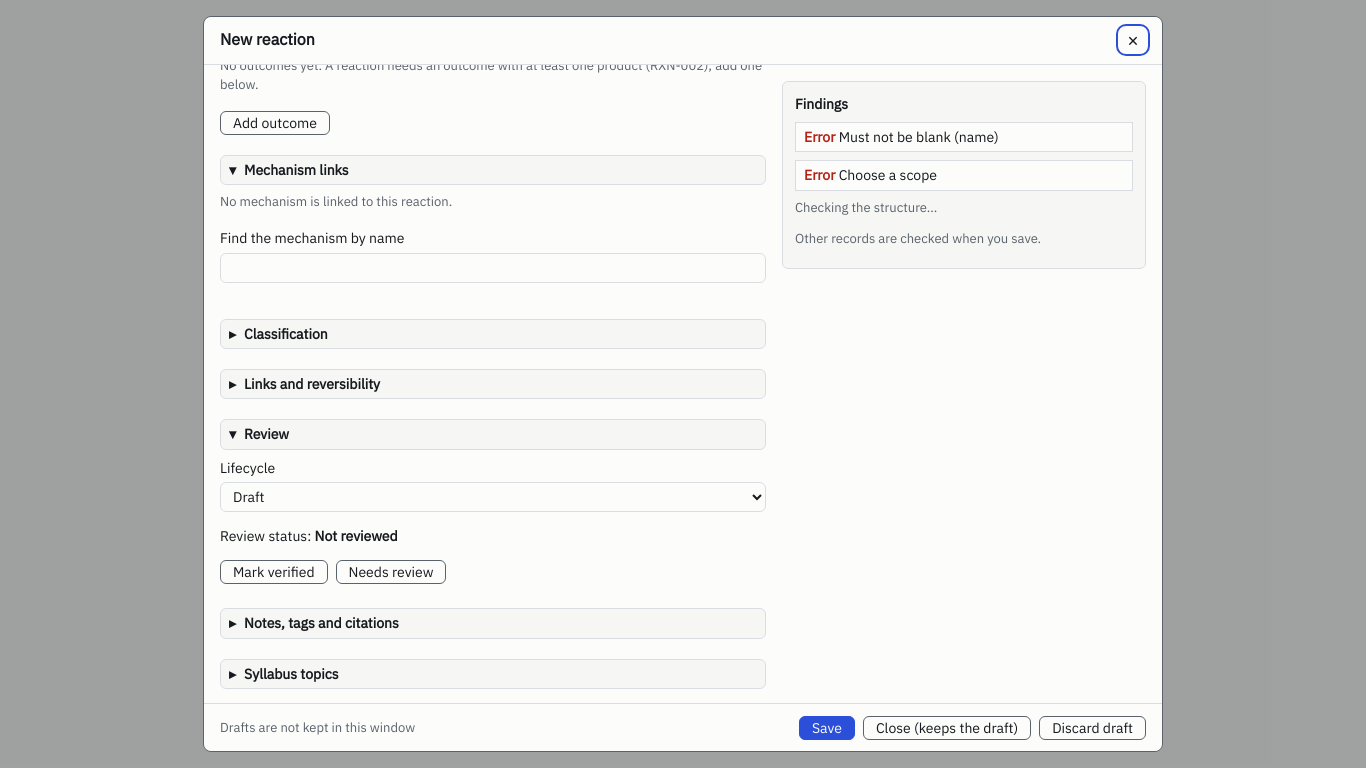
Test: reversibility › words the four values; the schema's unknown is "Not stated" and is where a reaction starts
The image size is (1366, 768).
(page scrolled)
Click the button "▸ Links and reversibility" at (312, 384), box [220, 369, 766, 399]
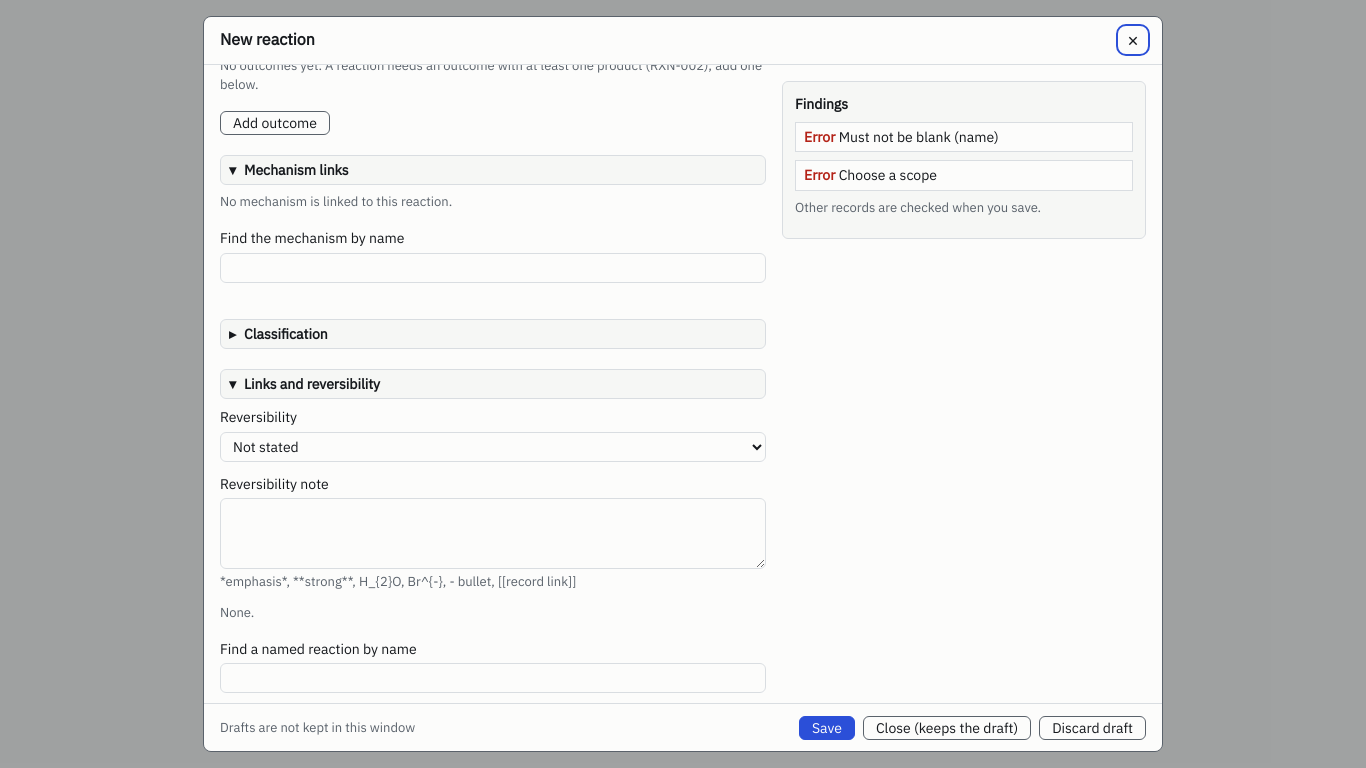
Check: the dropdown labelled "Reversibility" shows "Not stated", box [220, 432, 766, 462]
